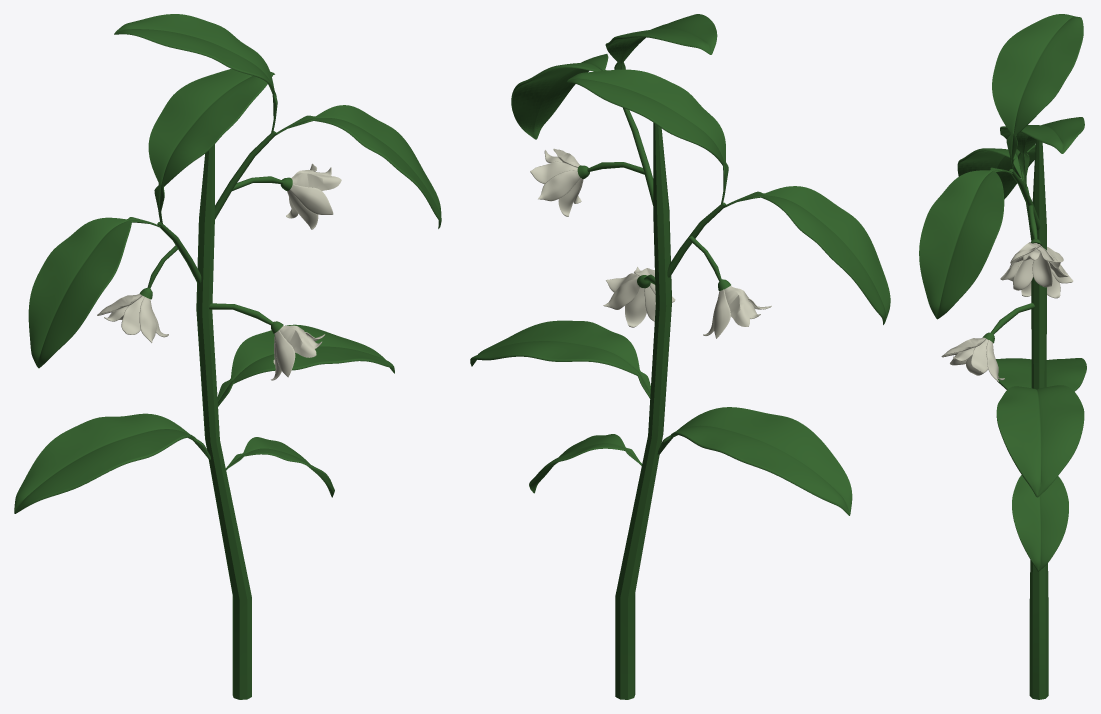
Rendered from Chilli_Medium.fbx.
The picture shows the model from 3 angles, left to right: view 1: azimuth 30°, elevation 25°; view 2: azimuth 150°, elevation 25°; view 3: azimuth 270°, elevation 25°; orthographic projection. The views are drawn at different scales.
Parts seen in each view (by area): view 1: Chilli_Mid; view 2: Chilli_Mid; view 3: Chilli_Mid.
Part boxes in pixels (box(x1,y1,x2,y2)): Chilli_Mid: box(14, 14, 441, 699); Chilli_Mid: box(470, 14, 890, 699); Chilli_Mid: box(919, 14, 1086, 699).
Size of the model in its own units: 6.15 by 10.43 by 2.49.
